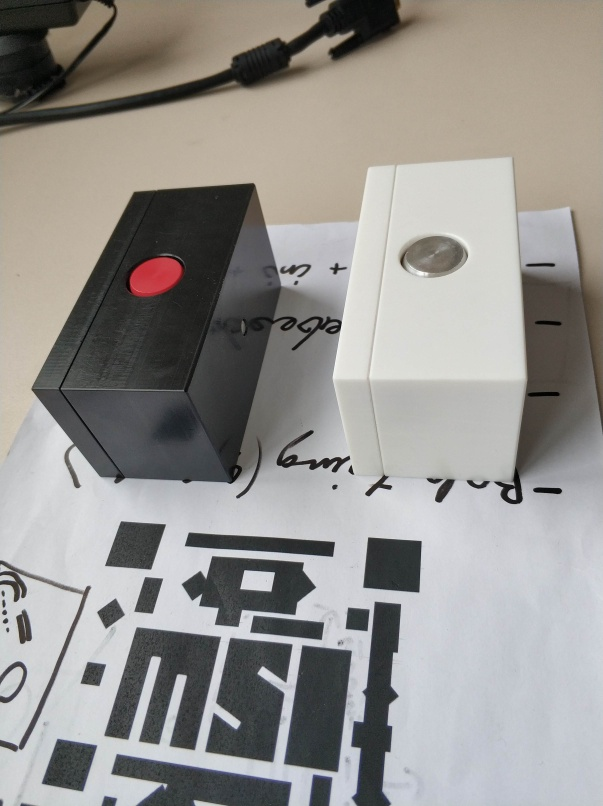black+black+red: (27, 180, 285, 485)
white+white+silver: (328, 155, 531, 485)
